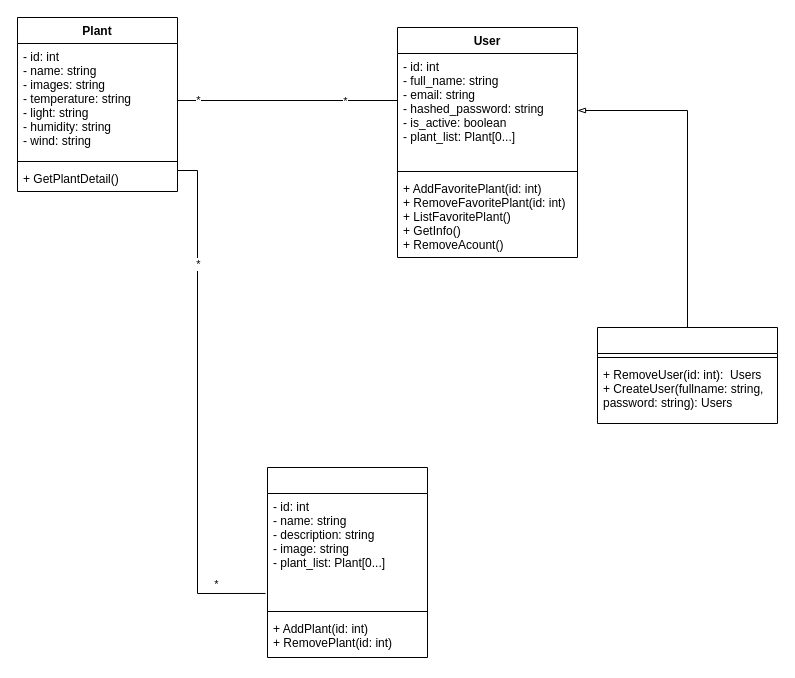
Some shapes in this 795 by 678 pixel diagram are drawn without their labels. Here are the shapes that lost their labels. From the top down, the box of each, then its label:
(596, 326, 778, 424): SuperrUser
(266, 466, 428, 658): Store
